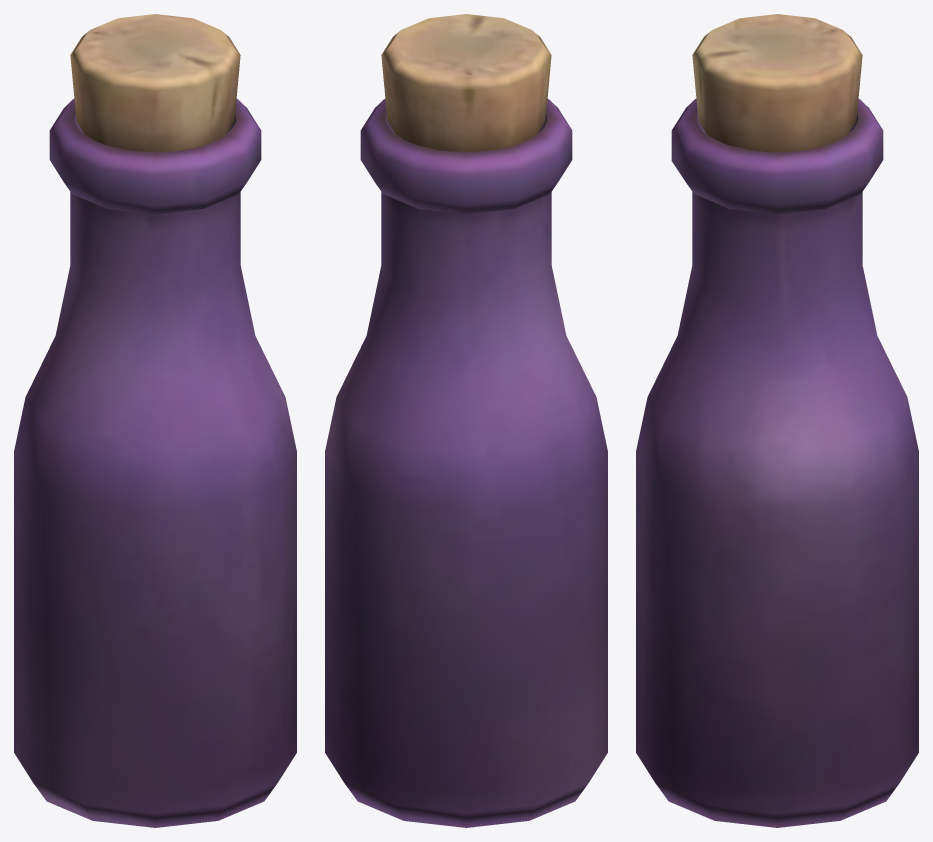
3 views of the same model, side by side, from view 1: azimuth 30°, elevation 25°; view 2: azimuth 150°, elevation 25°; view 3: azimuth 270°, elevation 25° (orthographic).
Parts seen in each view (by area): view 1: SM_Weak_Purple_Potion_LOD0; view 2: SM_Weak_Purple_Potion_LOD0; view 3: SM_Weak_Purple_Potion_LOD0.
Part boxes in pixels (x1=…): SM_Weak_Purple_Potion_LOD0: x1=14, y1=14, x2=296, y2=827; SM_Weak_Purple_Potion_LOD0: x1=325, y1=14, x2=607, y2=827; SM_Weak_Purple_Potion_LOD0: x1=636, y1=14, x2=918, y2=827.
Bounding box in the file's own units: 0.0834 × 0.2372 × 0.0834.
